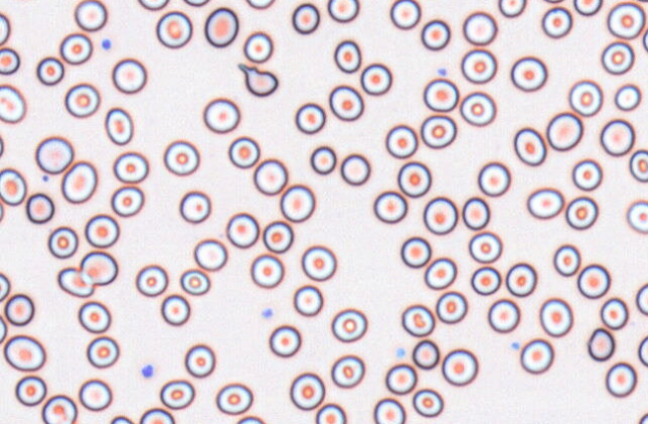PLT: (140, 363, 155, 381), (100, 36, 112, 51), (261, 308, 273, 320), (510, 342, 521, 354), (396, 348, 406, 360)
RBC: (60, 160, 97, 203), (3, 334, 45, 371), (34, 135, 73, 174), (545, 111, 583, 151), (606, 1, 645, 39), (155, 10, 192, 48), (441, 348, 478, 386), (279, 183, 315, 222), (204, 6, 238, 47), (510, 55, 547, 92), (252, 157, 288, 195), (289, 372, 325, 410), (202, 97, 240, 133), (422, 196, 458, 234), (599, 118, 635, 156), (79, 250, 118, 285), (539, 297, 573, 337), (111, 57, 147, 94), (460, 48, 497, 84), (300, 244, 336, 281), (163, 139, 199, 176), (513, 126, 546, 166), (64, 82, 100, 118), (459, 91, 496, 126), (330, 307, 367, 342), (328, 84, 363, 121), (568, 79, 603, 116), (519, 338, 554, 374), (422, 77, 458, 112), (420, 114, 456, 149), (397, 160, 431, 197), (215, 382, 253, 415), (84, 213, 119, 248), (462, 10, 497, 45), (225, 212, 259, 248), (576, 263, 610, 299), (526, 187, 564, 219), (250, 253, 284, 288), (330, 354, 365, 388), (477, 161, 510, 197), (423, 256, 457, 290), (600, 41, 634, 75), (372, 190, 407, 223), (487, 298, 520, 333), (565, 195, 598, 230), (112, 151, 148, 183), (605, 361, 637, 397), (57, 266, 94, 297), (104, 106, 133, 145), (77, 300, 111, 333), (193, 238, 227, 271), (78, 378, 112, 411), (401, 303, 434, 337), (385, 124, 418, 158), (505, 262, 537, 297), (159, 378, 195, 409), (227, 135, 260, 168), (135, 264, 168, 297), (86, 335, 119, 368), (268, 324, 301, 357), (110, 185, 144, 217), (468, 231, 502, 263), (184, 343, 215, 378), (41, 394, 77, 424), (384, 363, 417, 395), (59, 32, 92, 64), (360, 62, 392, 95), (179, 190, 211, 223), (435, 291, 467, 324), (73, 0, 107, 31), (0, 83, 26, 123), (47, 225, 78, 258), (262, 220, 293, 253), (571, 158, 602, 191), (14, 375, 46, 406), (292, 284, 323, 316), (400, 236, 431, 268), (294, 102, 325, 134), (541, 6, 572, 38), (4, 293, 34, 326), (243, 30, 273, 63), (340, 152, 370, 185), (160, 293, 190, 326), (0, 167, 26, 205), (461, 196, 490, 230), (420, 18, 450, 50), (599, 297, 628, 330), (587, 327, 615, 361), (333, 39, 361, 73), (470, 265, 501, 295), (389, 0, 421, 29), (291, 2, 320, 34), (552, 243, 580, 276), (412, 388, 443, 417), (25, 192, 54, 223), (411, 339, 439, 369), (179, 268, 210, 295), (373, 397, 405, 423), (36, 56, 64, 85), (309, 145, 336, 174), (614, 83, 641, 111), (626, 199, 648, 233), (314, 402, 346, 424), (327, 0, 359, 22), (138, 407, 175, 424), (629, 149, 648, 182), (0, 47, 20, 75), (497, 0, 526, 17), (573, 0, 603, 16), (635, 282, 648, 316), (0, 11, 10, 46), (136, 0, 170, 10), (638, 333, 648, 367), (0, 272, 10, 302), (234, 415, 267, 424), (244, 0, 276, 9), (108, 415, 135, 424), (0, 313, 7, 344), (181, 0, 211, 7), (642, 26, 648, 53), (638, 411, 648, 424), (539, 0, 567, 4), (0, 199, 4, 226), (0, 132, 4, 159), (7, 0, 39, 2), (632, 0, 648, 3)
Schistocyte: (238, 62, 279, 97)
